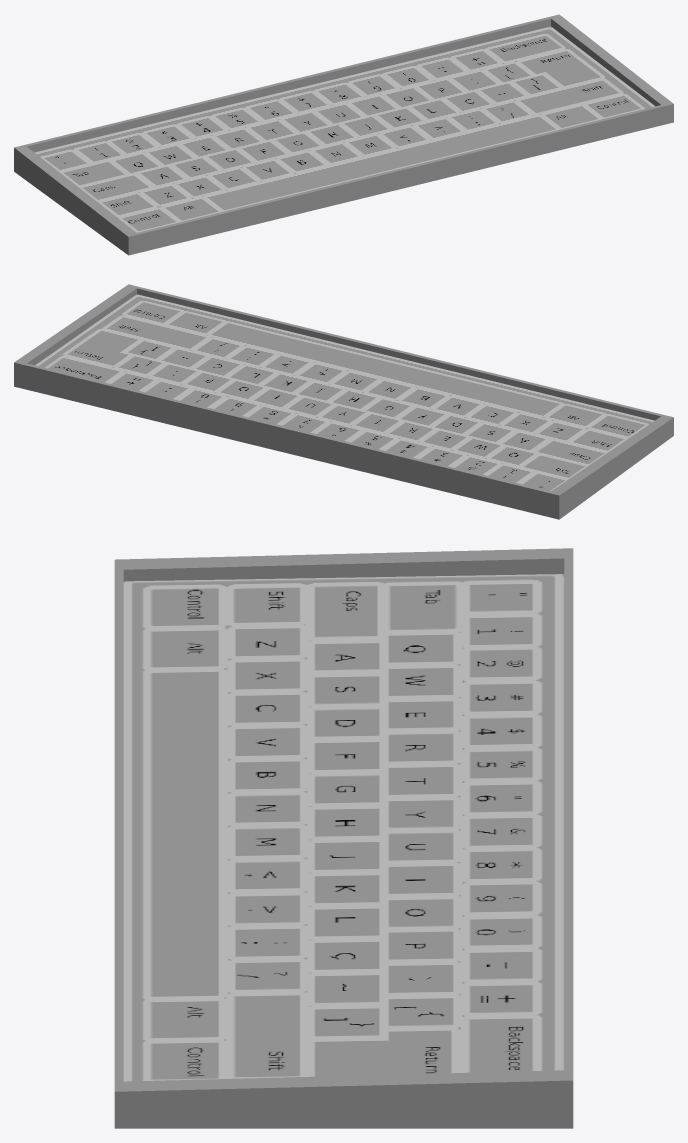
Rendered from Keyboard.fbx.
3 views of the same model, one above another, from view 1: azimuth 30°, elevation 25°; view 2: azimuth 150°, elevation 25°; view 3: azimuth 270°, elevation 25° (orthographic). The views are drawn at different scales.
Parts seen in each view (by area): view 1: pCube28; view 2: pCube28; view 3: pCube28.
Boxes of the visible parts, x1,y1,x2,y2 form: pCube28: (14,14,673,255); pCube28: (14,284,673,519); pCube28: (114,548,573,1128).
Bounding box in the file's own units: 7.38 × 0.3117 × 2.69.
